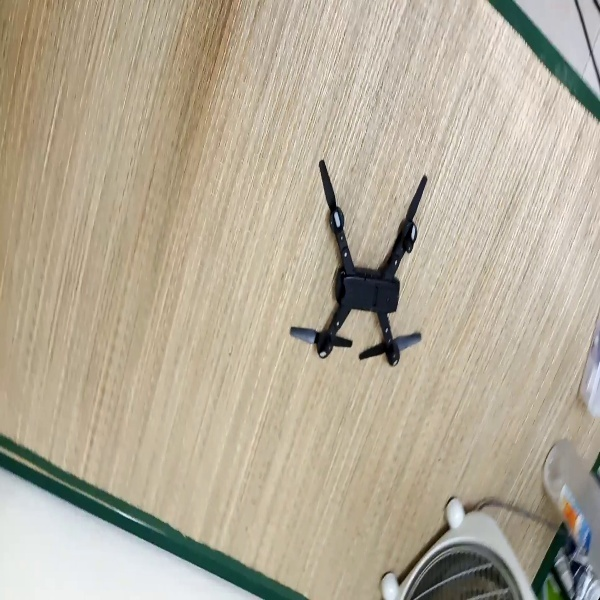drone: (282, 157, 436, 369)
